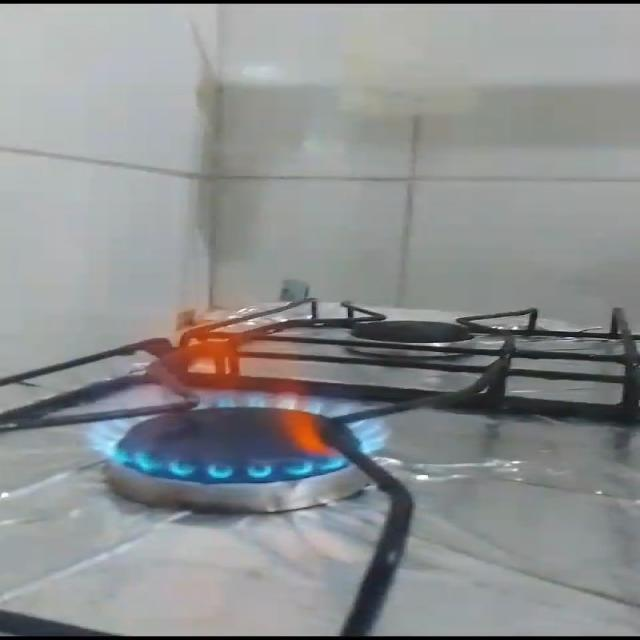fire: (85, 254, 392, 494)
